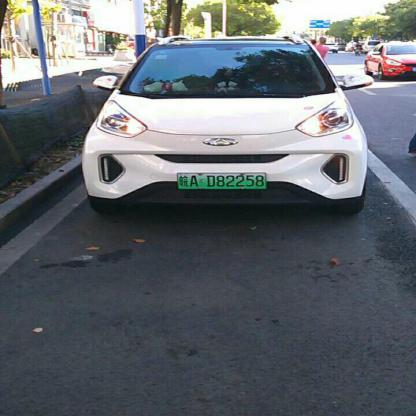lp: (177, 172, 267, 189)
